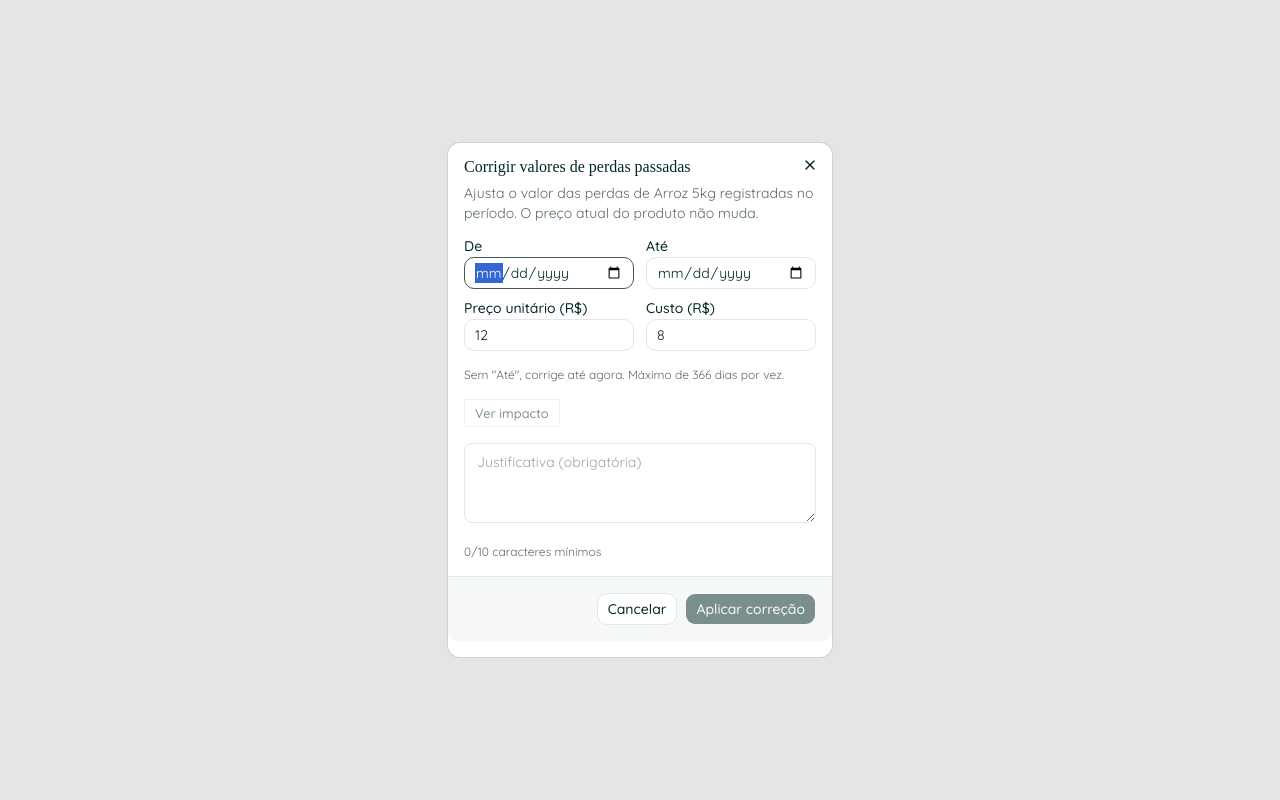
RetroFixDialog › erro da API aparece no diálogo
This screenshot has width=1280, height=800.
Type "2026-09-01" into the date field labelled "De" at (549, 273), box [464, 257, 634, 289]
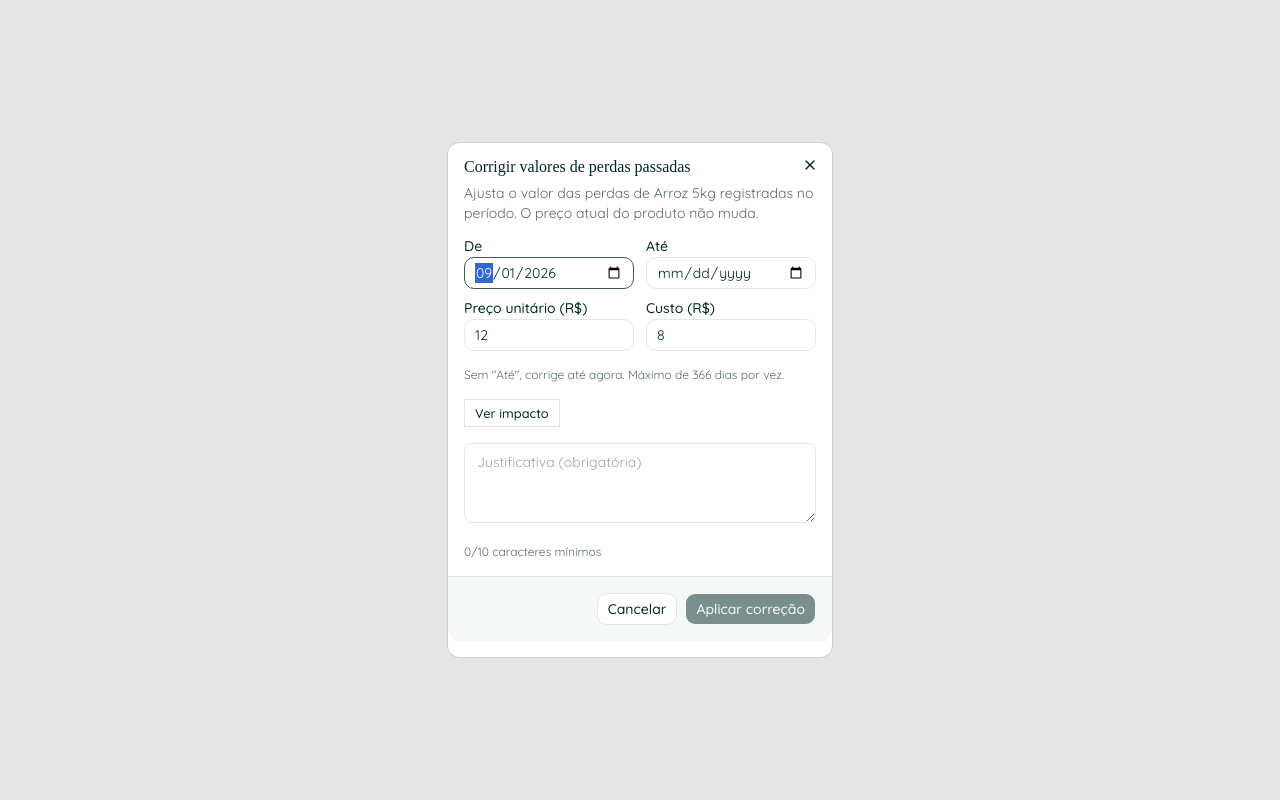
Type "2026-09-20" into the date field labelled "Até" at (731, 273), box [646, 257, 816, 289]
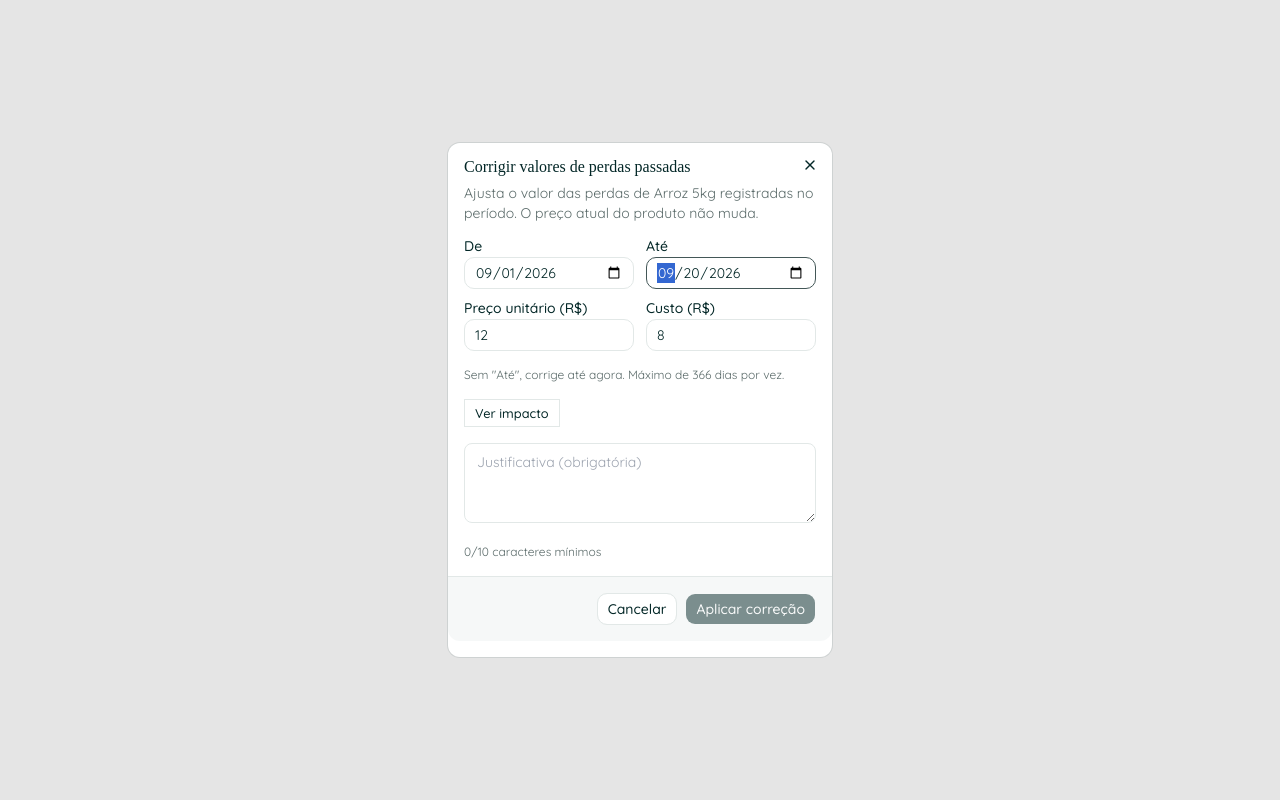
Click the button "Ver impacto" at (512, 413), box [464, 399, 560, 427]
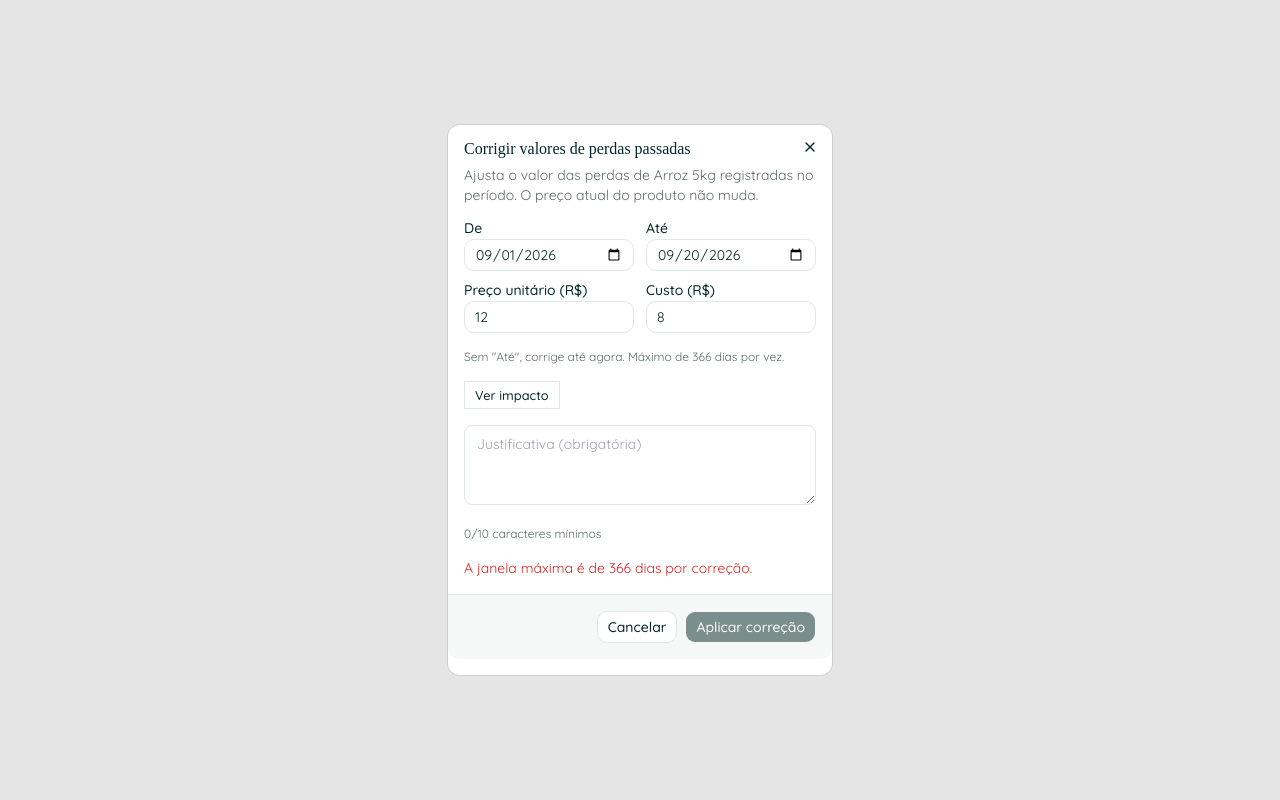
Now the text "A janela máxima é de 366 dias por correção." is shown, box [464, 559, 752, 577]
